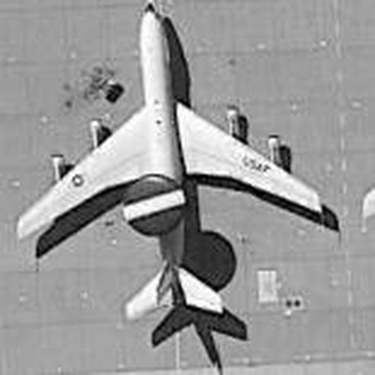airplane: (6, 1, 330, 332)
